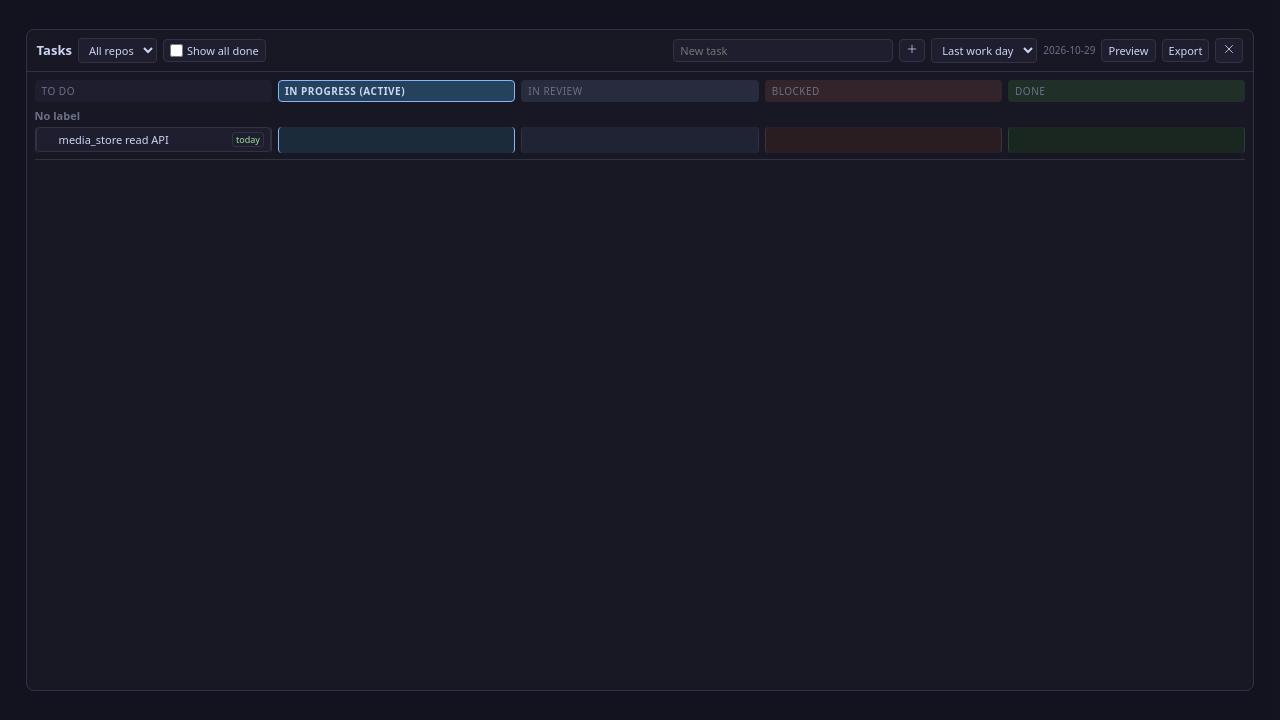
Test: clickable links in the activity log › renders a URL inside an entry as a link and keeps the prose intact
Check: the text "media_store read API" is shown, box [59, 132, 169, 147]
Click the button "media_store read API today".
click(153, 139)  # box [36, 127, 271, 152]
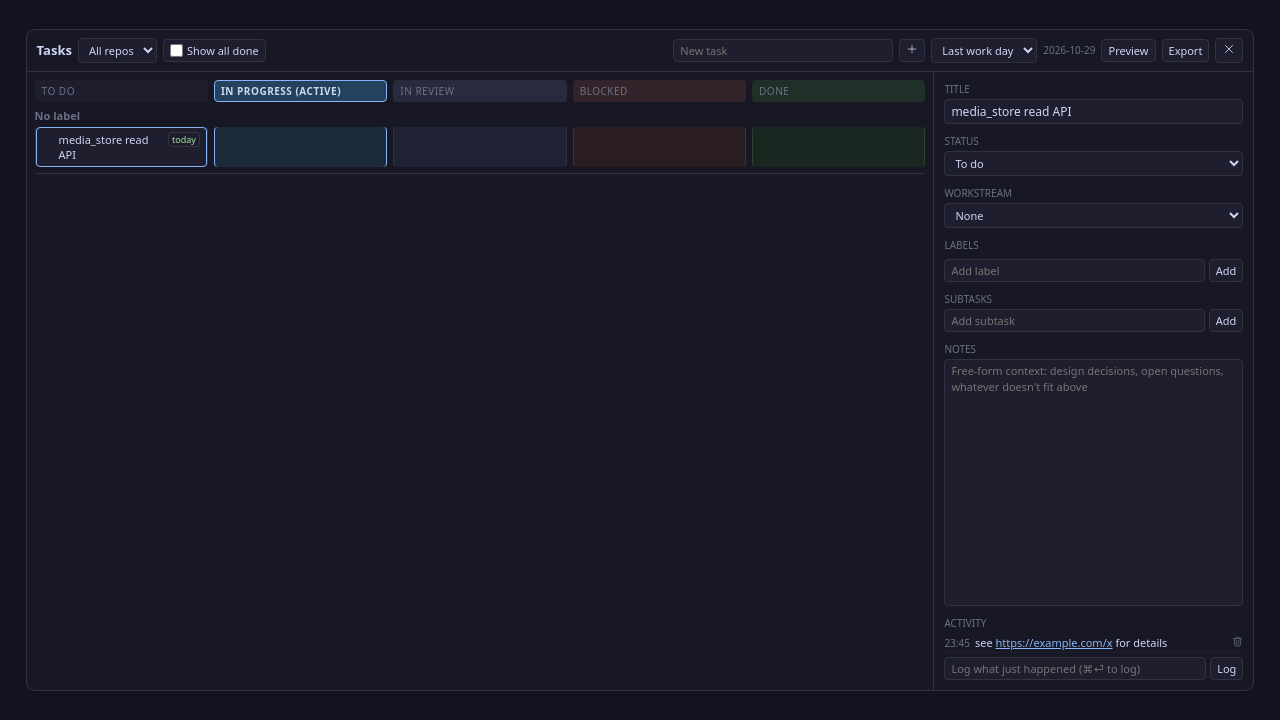
Check: the element with test id "^event-text-" reads "see https://example.com/x for details", box [975, 635, 1167, 650]
